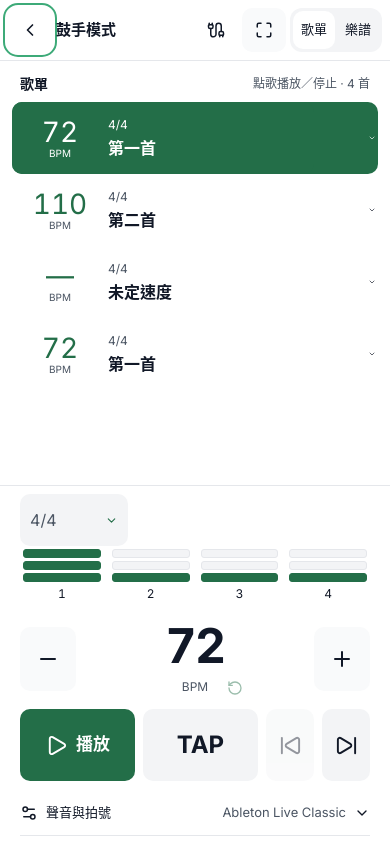
it: drummer session controls › uses setlist metadata, keeps tempo overrides per entry and never mutates shared songs
Click the button named "增加 1 BPM".
click(342, 659)  # box x1=314 y1=627 x2=370 y2=691
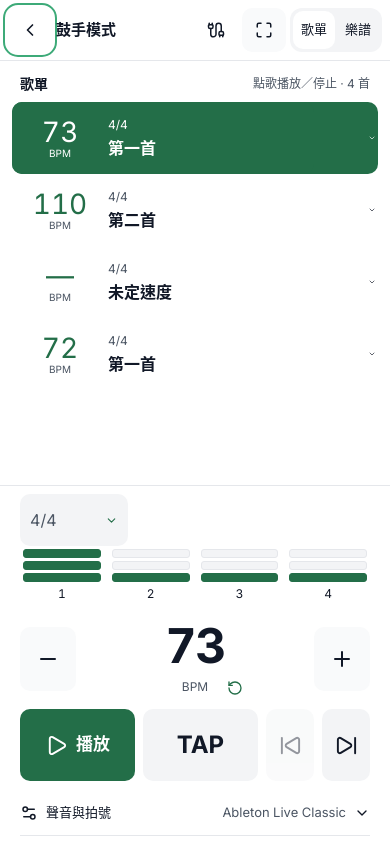
Expected: the field named "節拍器速度 BPM" holds "73", x1=88 y1=620 x2=302 y2=673
Click the button "72 BPM 4/4 第一首".
click(60, 348)  # box x1=12 y1=318 x2=314 y2=390
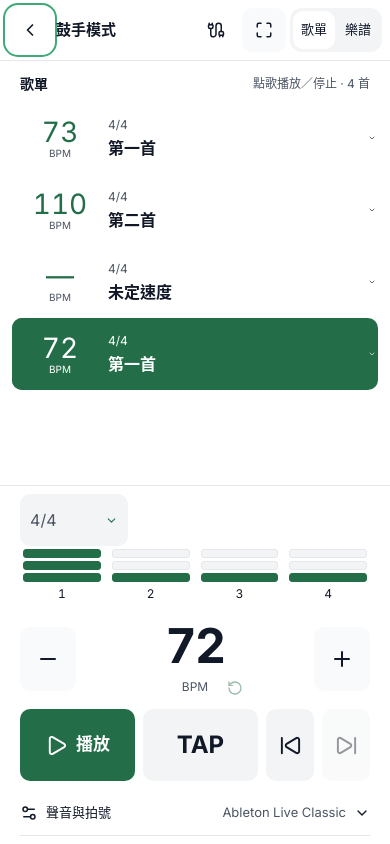
Expected: the field named "節拍器速度 BPM" holds "72", x1=88 y1=620 x2=302 y2=673
Click the button with aria-label "1 第一首".
click(60, 132)  # box x1=12 y1=102 x2=314 y2=174
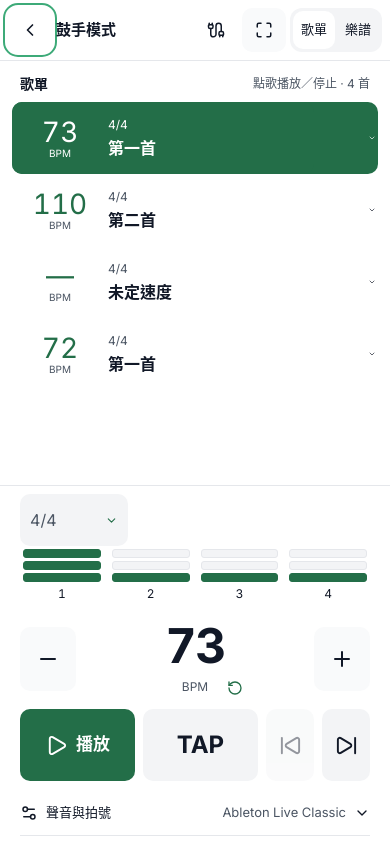
Expected: the field named "節拍器速度 BPM" holds "73", x1=88 y1=620 x2=302 y2=673
